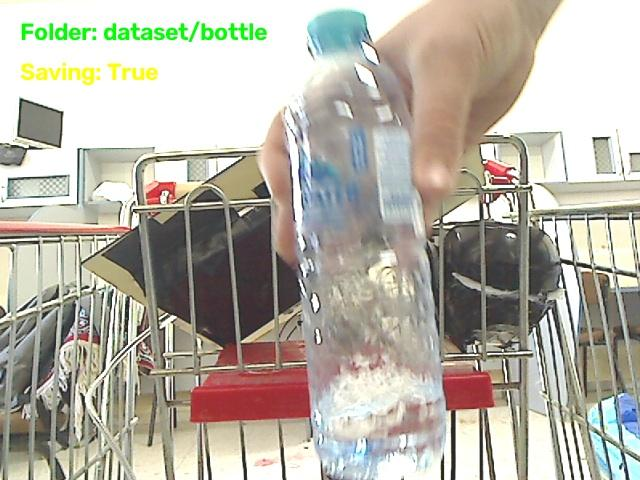Bottle: (286, 10, 445, 479)
